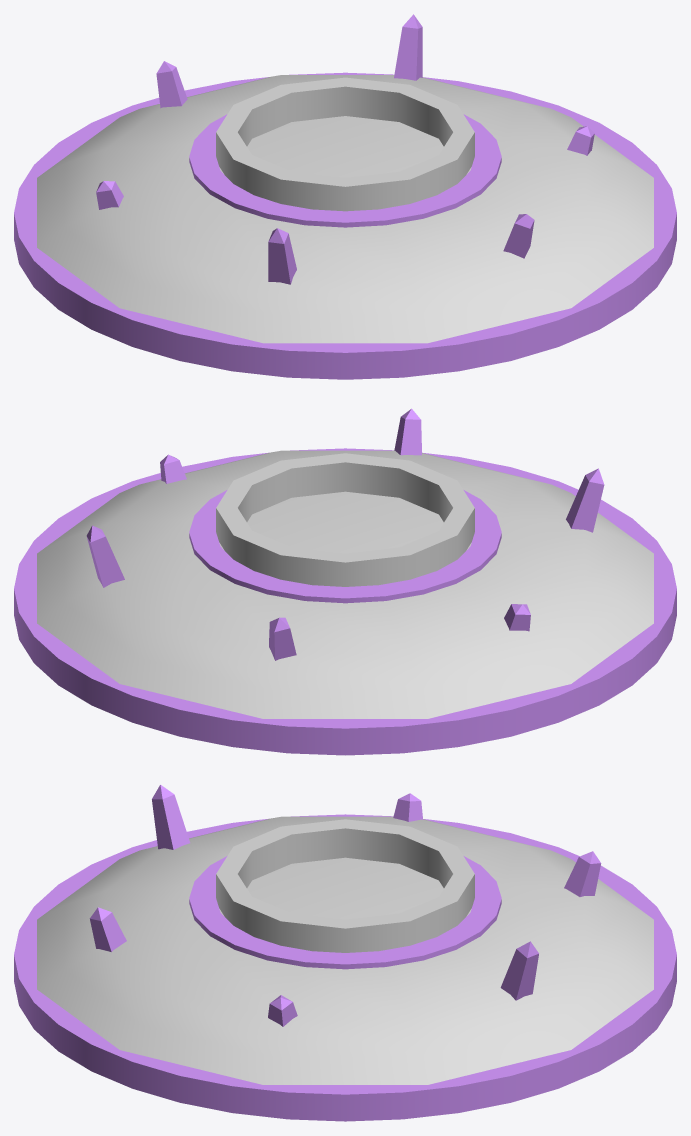
File: BeamPillarBase.glb
3 renders of one model, top to bottom at view 1: azimuth 30°, elevation 25°; view 2: azimuth 150°, elevation 25°; view 3: azimuth 270°, elevation 25°, orthographic.
Parts seen in each view (by area): view 1: Body, Glow; view 2: Body, Glow; view 3: Body, Glow.
Boxes of the visible parts, <box> form: Body: <box>37,75,653,343</box>; Glow: <box>14,14,676,379</box>; Body: <box>37,450,653,718</box>; Glow: <box>14,408,676,755</box>; Body: <box>37,816,653,1084</box>; Glow: <box>14,784,676,1121</box>.
Size of the model in its own units: 12.3 by 2.85 by 12.3.
